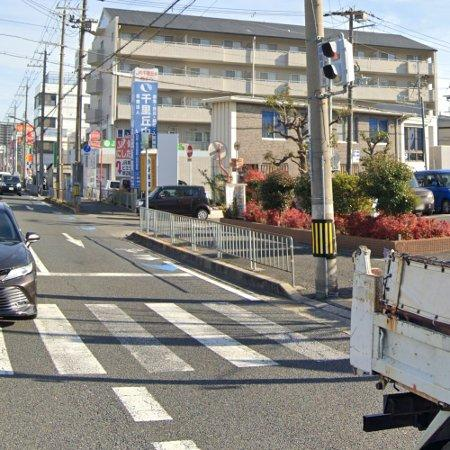crosswalks: (0, 300, 351, 384)
